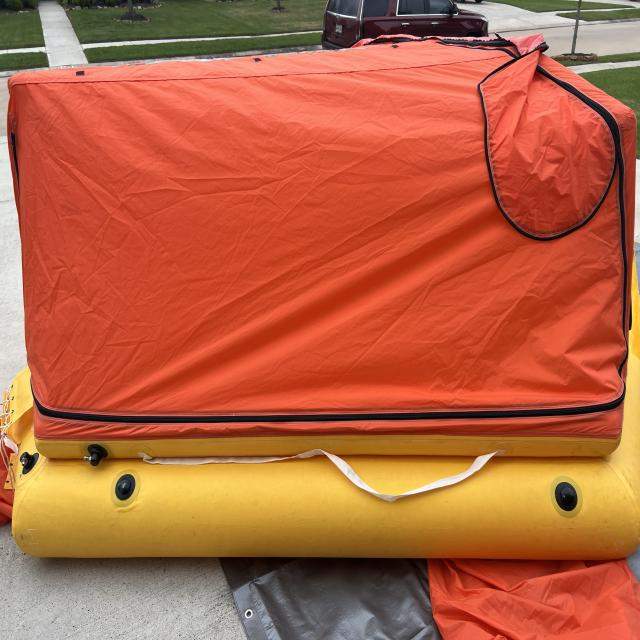Multi-person_life_raft: (0, 34, 640, 639)
